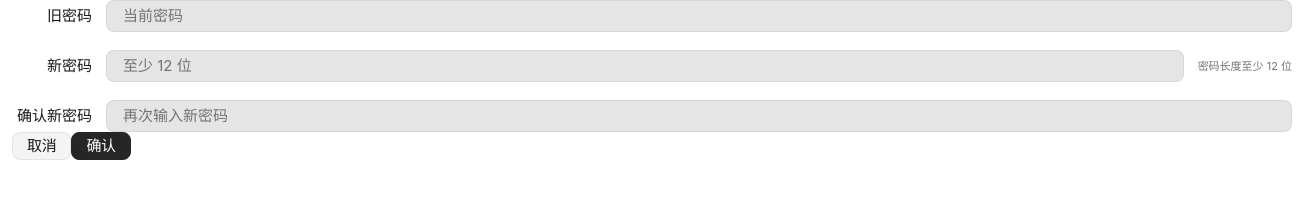
ChangePasswordModal › invalid_old_password：按 code 映射中文（契约 rest §1 自助改密须校验旧密码）
This screenshot has width=1304, height=212.
Type "wrong-old" into the password field with test id "old-password". click: (699,16)
box: [121,4,1277,28]
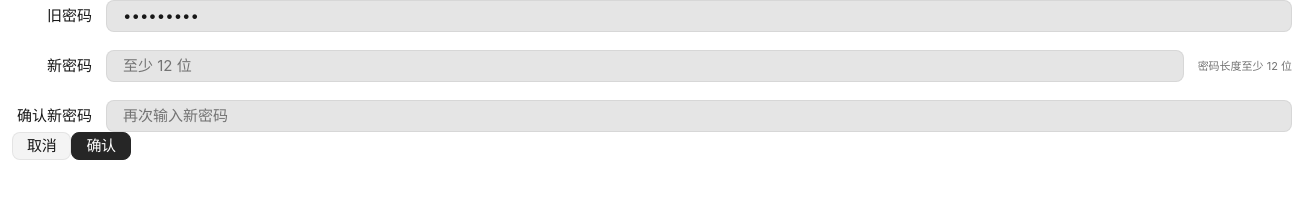
Type "NewStrongPass1" into the password field with test id "new-password". click: (645,66)
box: [121,54,1169,78]
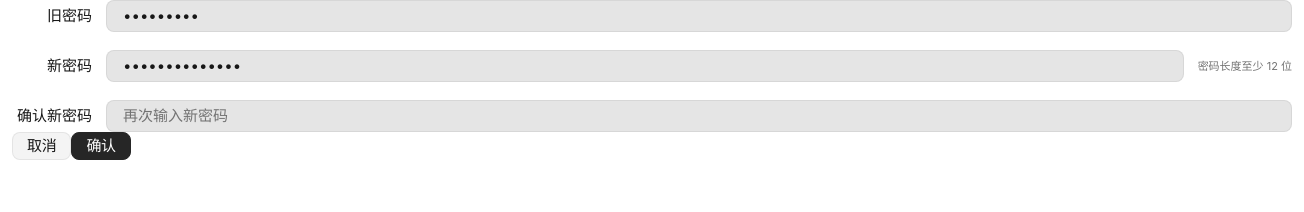
Type "NewStrongPass1" into the password field with test id "confirm-password". click: (699,116)
box: [121,104,1277,128]
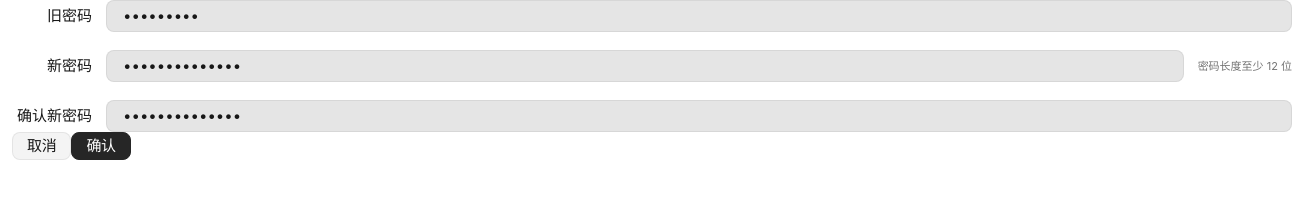
Click the button with test id "submit-password". click: (101,146)
box: [71,132,131,160]
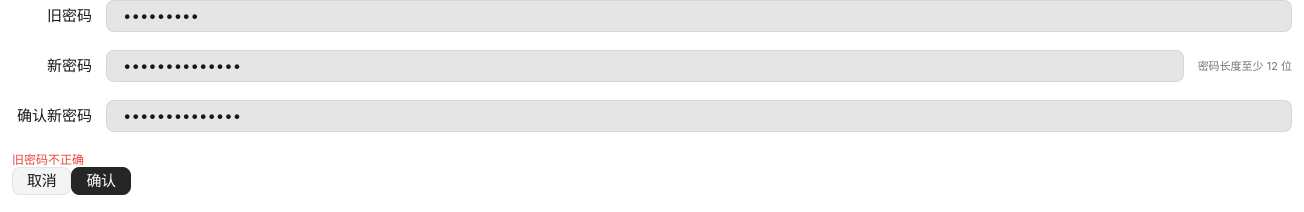
Expected: the text "旧密码不正确" is shown, [12,152,84,167]
